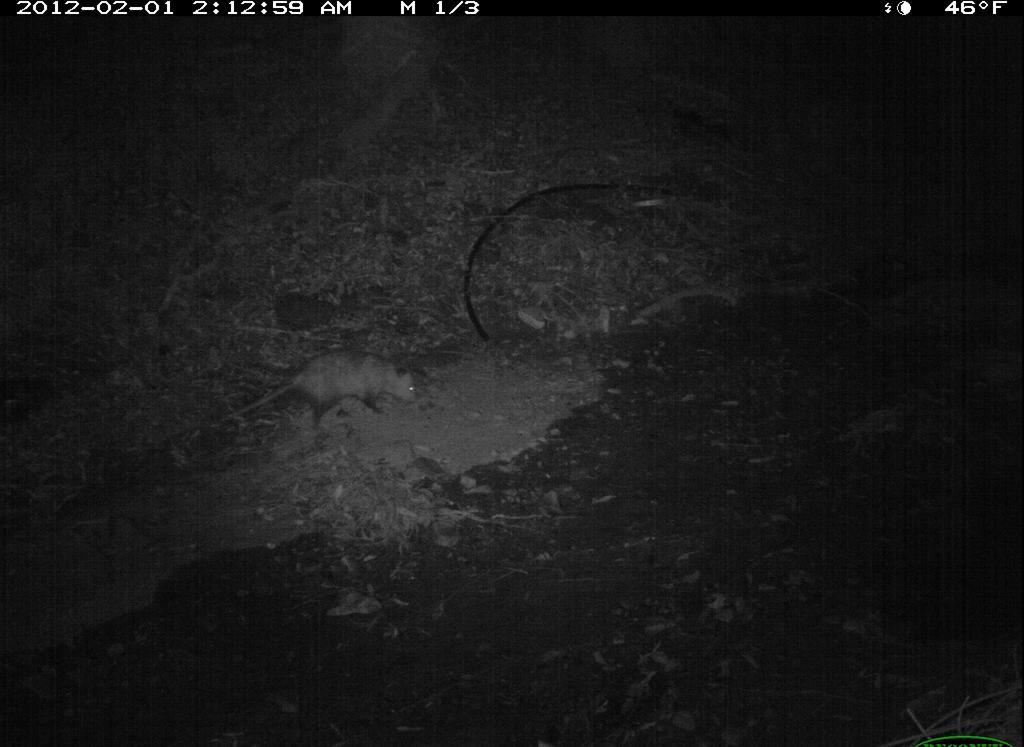opossum: (219, 341, 429, 440)
